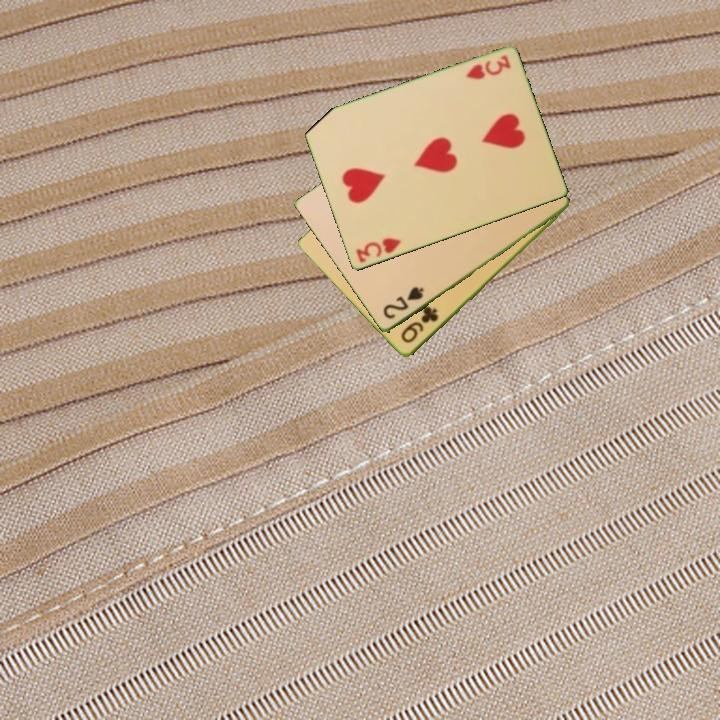2s: (379, 283, 427, 323)
3h: (352, 234, 403, 266), (462, 52, 513, 83)
9c: (397, 304, 441, 346)
